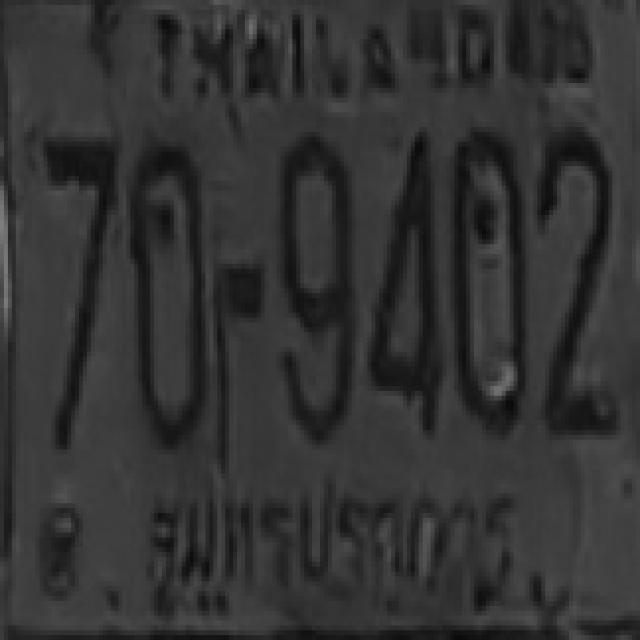0: (448, 127, 528, 430), (276, 132, 352, 327)
2: (536, 124, 610, 369)
4: (366, 130, 440, 432)
7: (46, 137, 116, 322)
9: (274, 144, 354, 442), (274, 176, 354, 440)
SamutPrakan: (134, 466, 523, 608)
